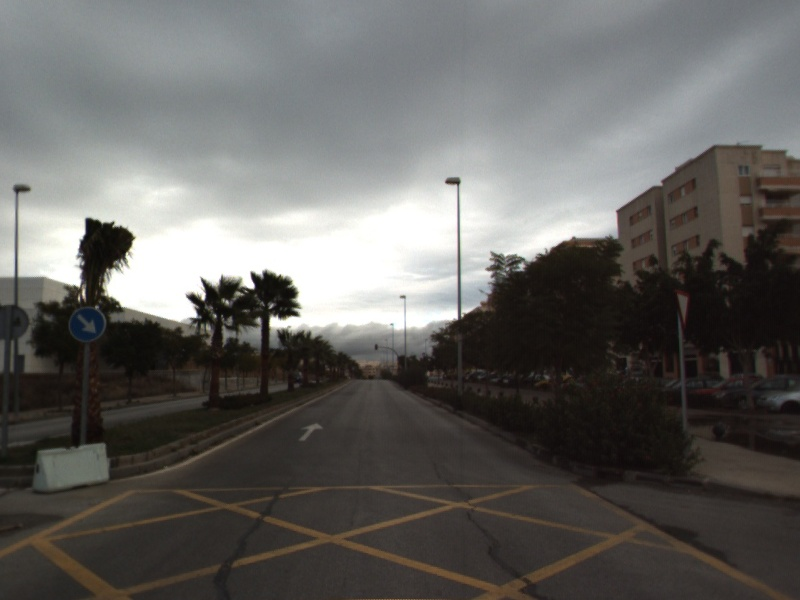STRAIGHT: (296, 420, 326, 443)
